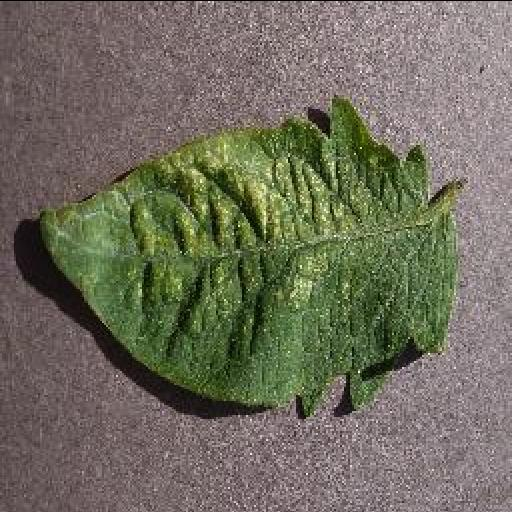disease_tomato: (38, 96, 456, 414)
